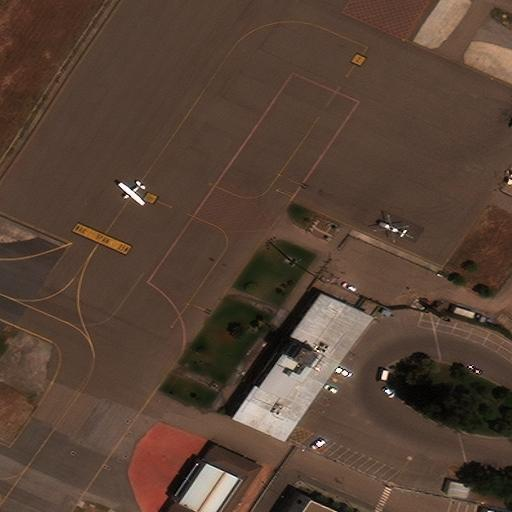Small Civil Transport: (117, 183, 142, 206)
